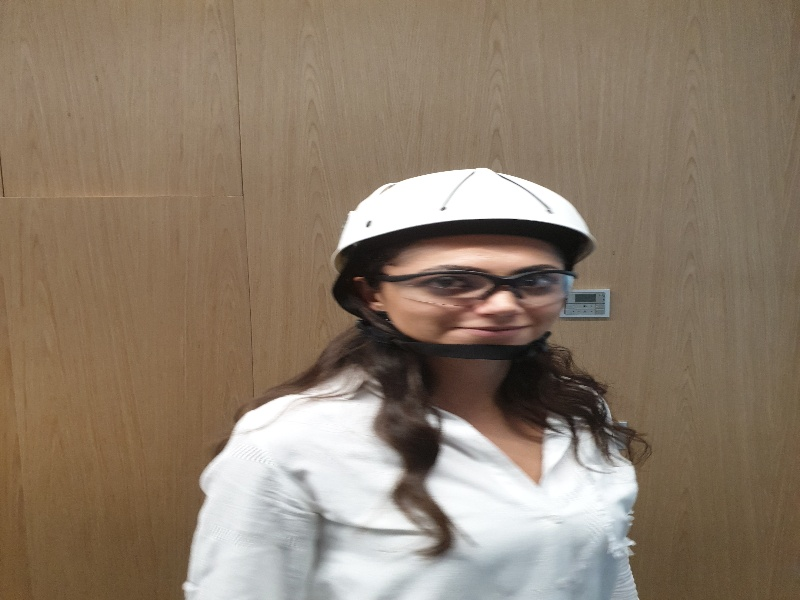Baret: (330, 169, 601, 252)
Gozluk: (382, 268, 580, 303)
